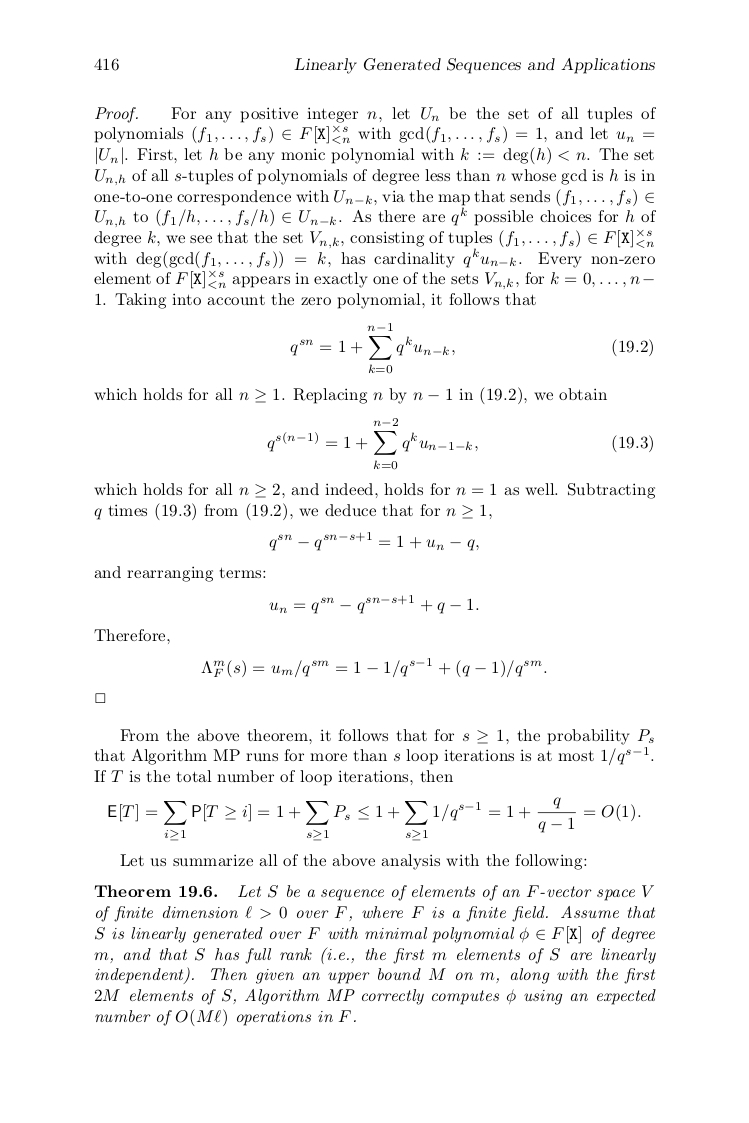formula: (108, 796, 640, 841), (267, 418, 652, 469), (290, 323, 652, 373), (201, 657, 546, 678), (269, 531, 478, 551), (269, 594, 478, 614)
